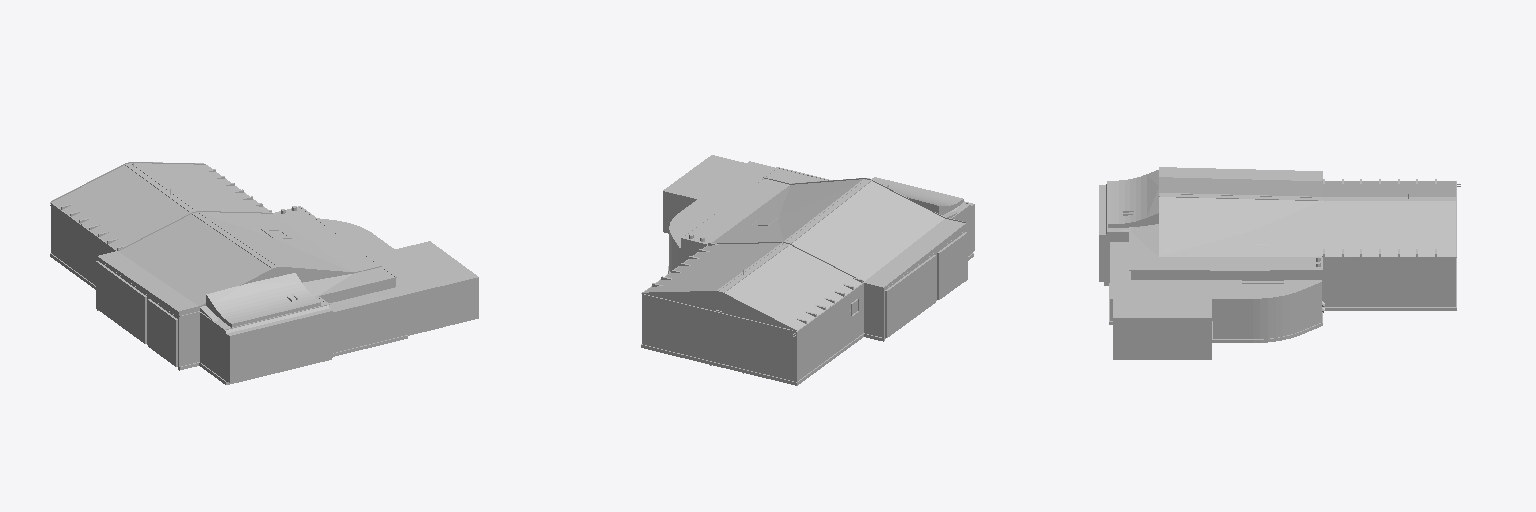
Rendered from warehouse.obj.
3 views of the same model, side by side, from view 1: azimuth 30°, elevation 25°; view 2: azimuth 150°, elevation 25°; view 3: azimuth 270°, elevation 25° (orthographic).
Parts seen in each view (by area): view 1: Tavan, Duvarlar, Odunlar; view 2: Tavan, Duvarlar, Odunlar; view 3: Tavan, Duvarlar, Odunlar.
Part boxes in pixels (x1,y1,x2,y2): Tavan: (51,163,477,335); Duvarlar: (51,204,478,382); Odunlar: (50,162,407,384); Tavan: (645,155,973,330); Duvarlar: (642,191,974,381); Odunlar: (641,167,973,385); Tavan: (1099,167,1455,317); Duvarlar: (1099,233,1455,359); Odunlar: (1104,171,1456,342).
Size of the model in its own units: 1555 by 456 by 1741.